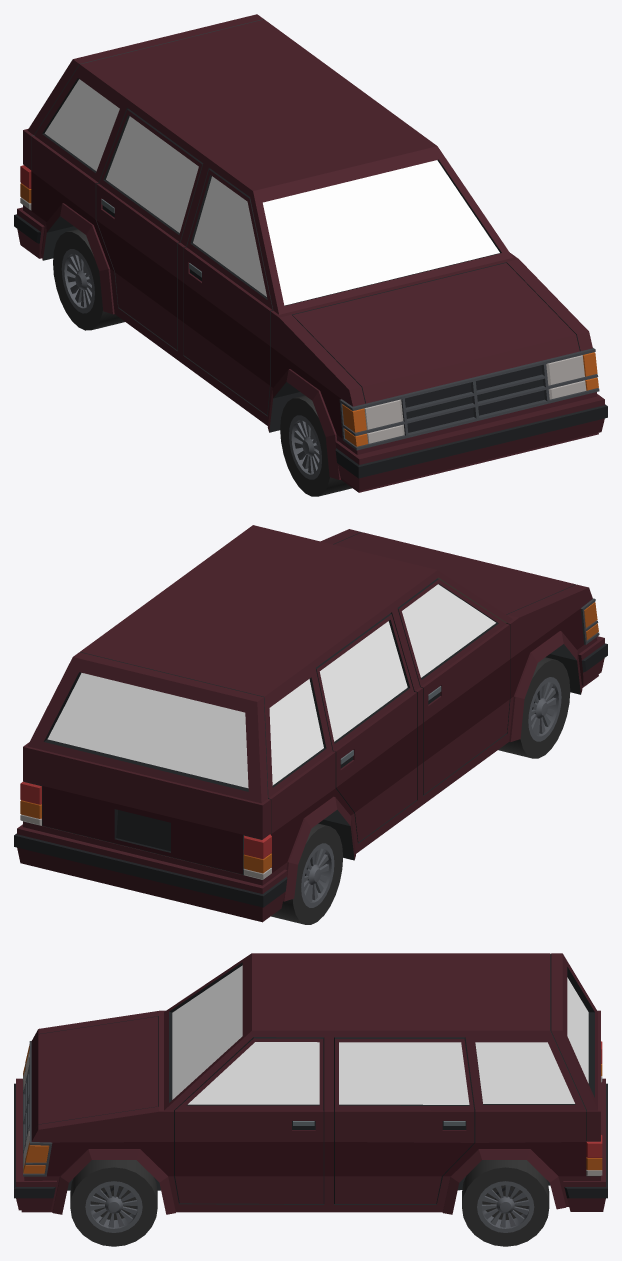
The model's file is 33_minivan.glb.
The picture shows the model from 3 angles, top to bottom: view 1: azimuth 30°, elevation 25°; view 2: azimuth 150°, elevation 25°; view 3: azimuth 270°, elevation 25°; orthographic projection. The views are drawn at different scales.
Parts seen in each view (by area): view 1: minivan_car_body, windows.004, door1_right, door2_right, win_door2_right, win_door1_right, wheel_back_right.001, wheel_front_right.002, door3; view 2: minivan_car_body, door3, win_door3, door1_right, door2_right, win_door2_right, win_door1_right, wheel_back_right.001, wheel_front_right.002, windows.004; view 3: minivan_car_body, door1_left, door2_left, windows.004, win_door2_left, wheel_back_left.003, wheel_front_left.002, win_door1_left, door3, win_door3.
Part boxes in pixels (x1,y1,x2,y2): minivan_car_body: (14, 19, 607, 492); windows.004: (44, 79, 499, 305); door1_right: (183, 168, 273, 415); door2_right: (96, 109, 203, 350); win_door2_right: (106, 116, 198, 232); win_door1_right: (193, 176, 266, 296); wheel_back_right.001: (53, 229, 124, 330); wheel_front_right.002: (280, 395, 351, 496); door3: (23, 14, 263, 169); minivan_car_body: (14, 525, 607, 922); door3: (23, 652, 270, 874); win_door3: (47, 673, 248, 788); door1_right: (397, 578, 509, 794); door2_right: (315, 613, 416, 842); win_door2_right: (319, 621, 407, 741); win_door1_right: (402, 584, 495, 677); wheel_back_right.001: (271, 823, 342, 924); wheel_front_right.002: (498, 657, 570, 758); windows.004: (269, 679, 323, 785); minivan_car_body: (14, 953, 607, 1214); door1_left: (174, 1037, 324, 1203); door2_left: (334, 1037, 475, 1203); windows.004: (172, 965, 574, 1103); win_door2_left: (339, 1042, 469, 1104); wheel_back_left.003: (462, 1160, 549, 1246); wheel_front_left.002: (70, 1160, 157, 1246); win_door1_left: (188, 1042, 319, 1104); door3: (550, 953, 600, 1141); win_door3: (567, 977, 588, 1083).
Bounding box in the file's own units: 1.86 × 1.68 × 4.41.
2 materials, 1 textured.
